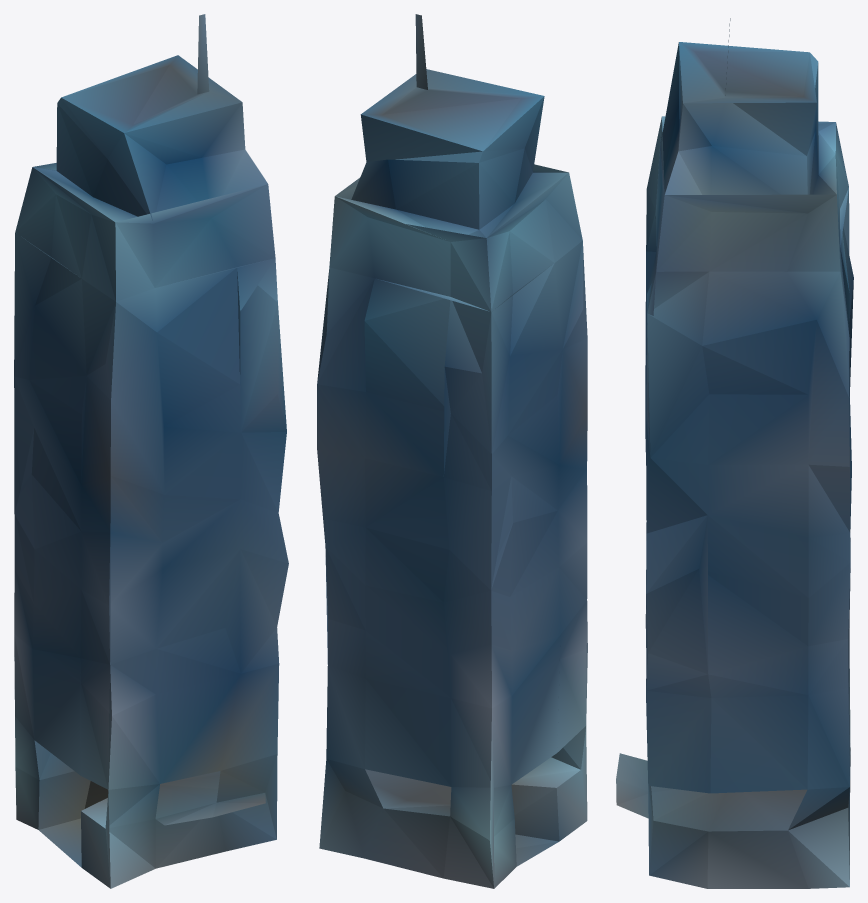
The model's file is city-glass-tower.glb.
3 renders of one model, left to right at view 1: azimuth 30°, elevation 25°; view 2: azimuth 150°, elevation 25°; view 3: azimuth 270°, elevation 25°, orthographic. The views are drawn at different scales.
Parts seen in each view (by area): view 1: city-glass-tower-far; view 2: city-glass-tower-far; view 3: city-glass-tower-far.
Boxes of the visible parts, x1=… form: city-glass-tower-far: x1=14, y1=14, x2=288, y2=888; city-glass-tower-far: x1=317, y1=14, x2=587, y2=888; city-glass-tower-far: x1=616, y1=18, x2=853, y2=888.
Bounding box in the file's own units: 10.3 × 43.94 × 11.14.
